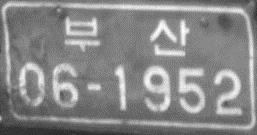-: (84, 80, 104, 94)
0: (18, 59, 47, 107)
1: (111, 61, 129, 114)
2: (212, 66, 245, 118)
5: (176, 66, 207, 114)
6: (49, 60, 79, 109)
9: (141, 63, 172, 113)
부산_D: (63, 14, 191, 58)
